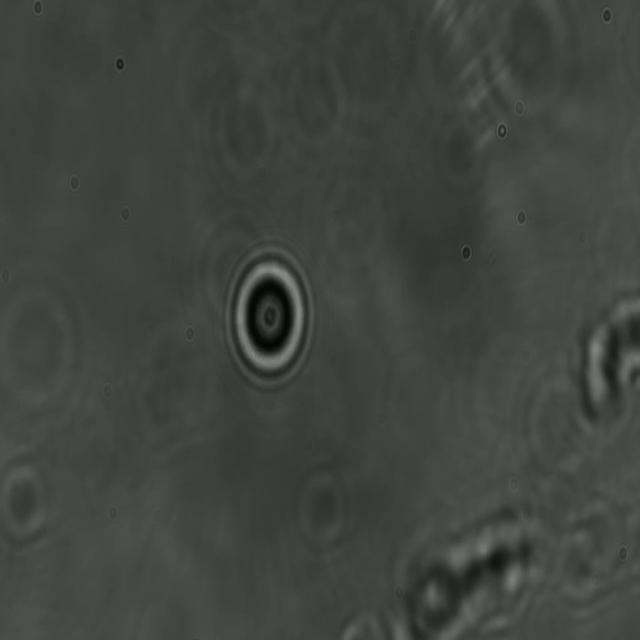LCELL: (221, 236, 315, 397)
